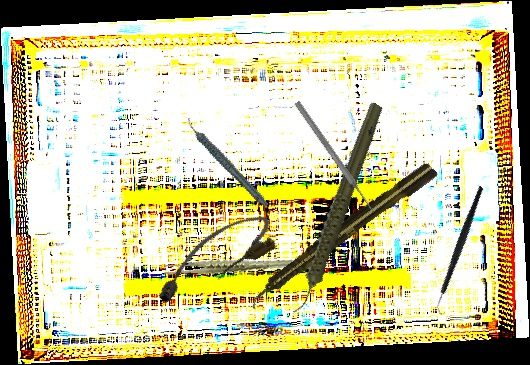Cannula: (143, 205, 283, 312)
Chopper: (398, 184, 524, 318)
Handpiece: (248, 100, 423, 317), (242, 159, 440, 311), (185, 104, 270, 220)
Pusher: (292, 100, 378, 215)
Tissue Forceps: (163, 238, 313, 295)
